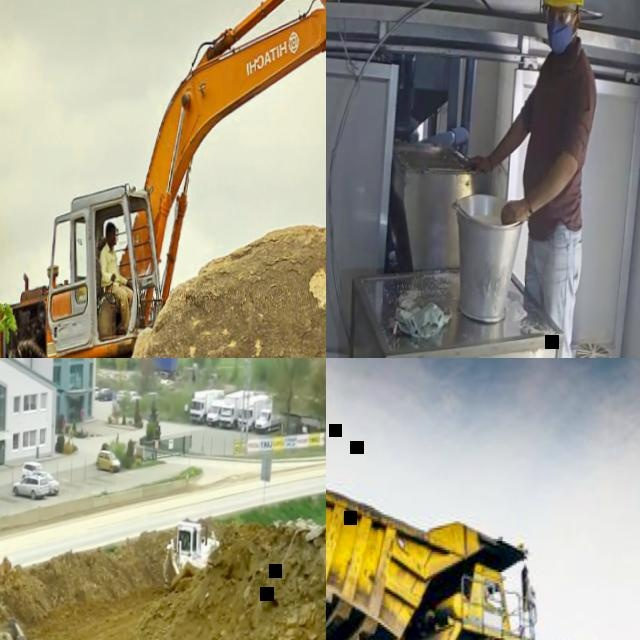Hardhat: (539, 0, 584, 15)
Mask: (543, 25, 574, 58)
NO-Hardhat: (105, 218, 119, 235)
NO-Mask: (107, 236, 118, 247)
NO-Safety Vest: (524, 49, 590, 237), (103, 249, 120, 284)
Person: (456, 0, 601, 358), (99, 218, 138, 332)
machinery: (0, 0, 326, 358), (326, 410, 567, 640), (162, 518, 221, 600), (160, 371, 175, 392)
vehicle: (237, 393, 273, 434), (219, 391, 255, 432), (189, 390, 224, 427), (12, 475, 49, 501), (254, 409, 284, 437), (31, 471, 59, 497), (96, 451, 121, 473), (21, 461, 45, 481), (207, 400, 224, 427), (97, 389, 116, 403), (126, 391, 142, 405), (115, 391, 129, 405), (94, 387, 100, 400)
